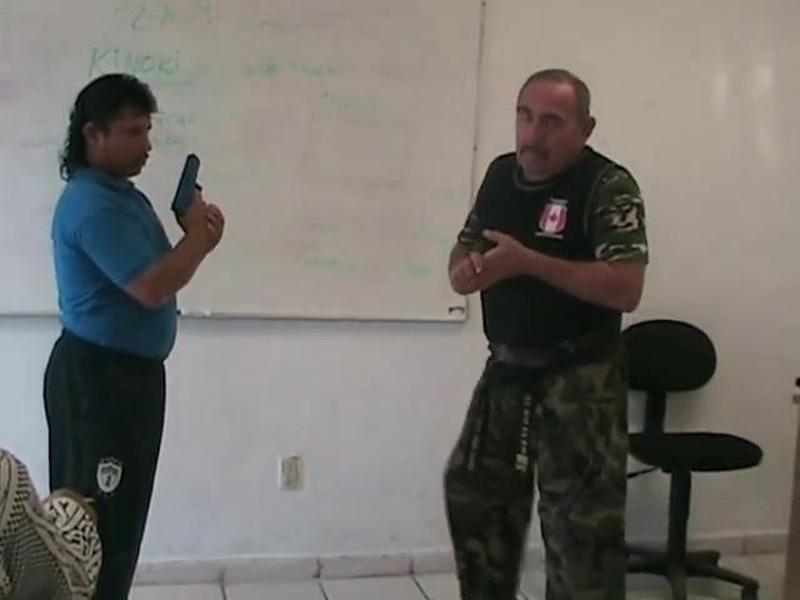Pistola: (164, 151, 220, 248)
